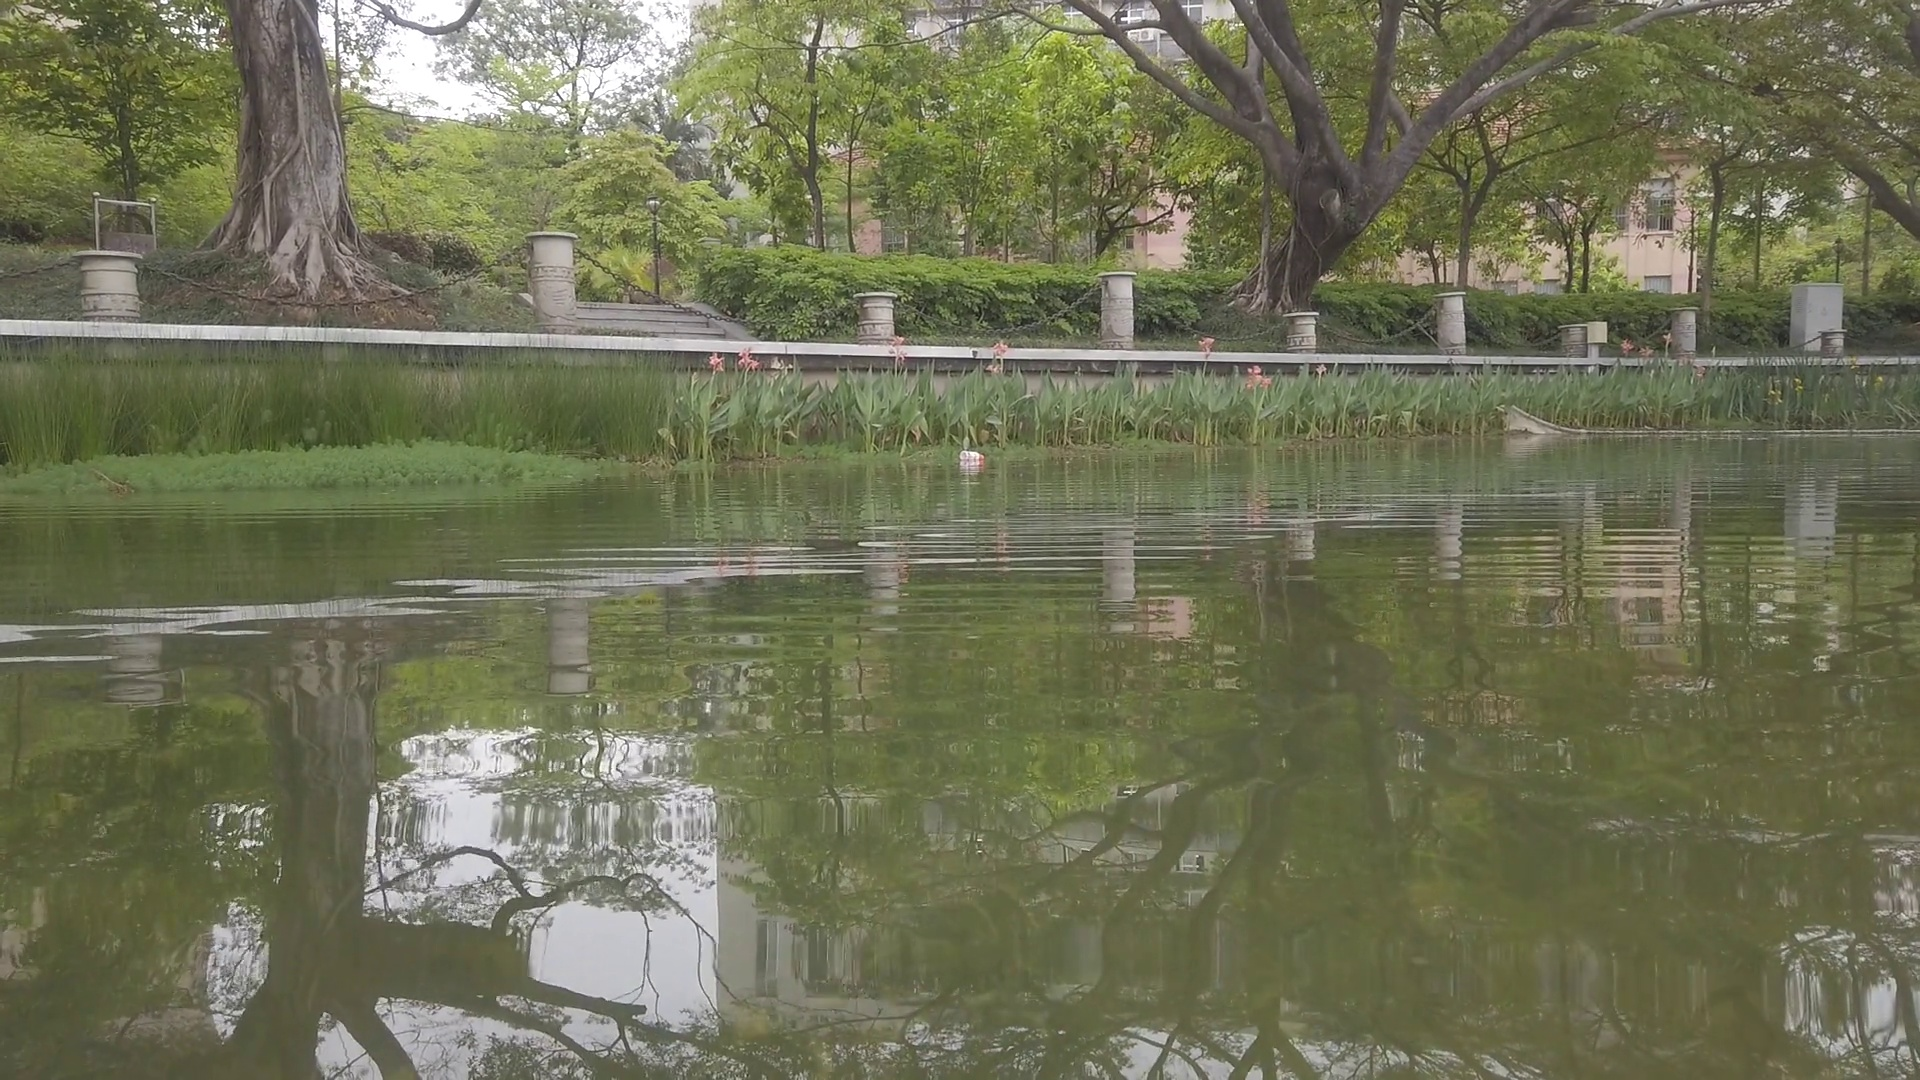bottle: (959, 452, 985, 460)
